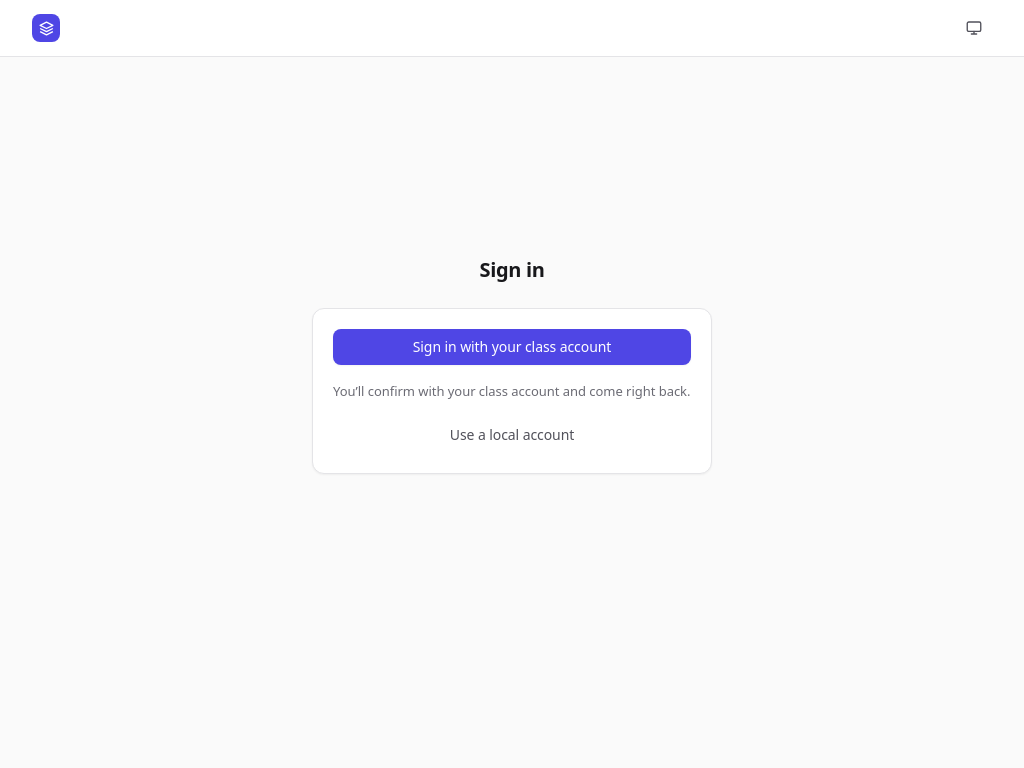
it: sign-in page › leads with a plain link to class sign-in and keeps local accounts behind a disclosure
The width and height of the screenshot is (1024, 768).
Expected: the field labelled "Password" is not shown
Click the button "Use a local account" at coordinates (512, 435), box [333,417,691,453]
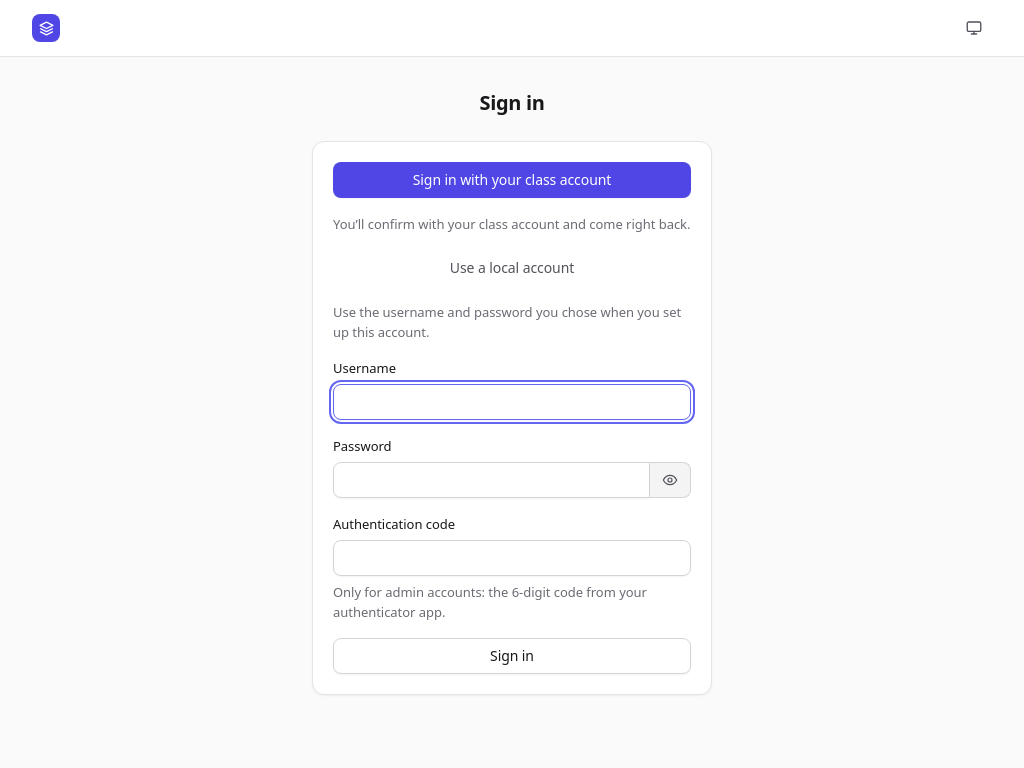
Now the button "Use a local account" is expanded, box [333,250,691,286]
Now the password field labelled "Password" is shown, box [333,462,650,498]
Now the field labelled "Authentication code" is shown, box [333,540,691,576]
